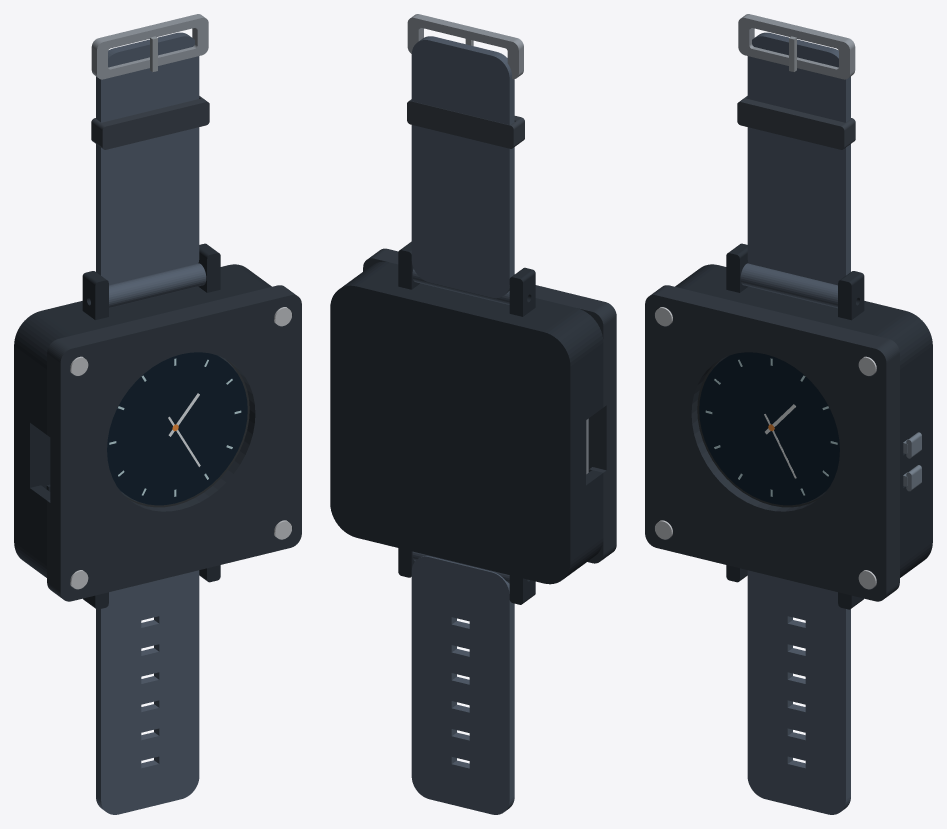
File: external-assembly.glb
3 renders of one model, left to right at view 1: azimuth 30°, elevation 25°; view 2: azimuth 150°, elevation 25°; view 3: azimuth 330°, elevation 25°, orthographic.
Visible parts, largest first — view 1: bezel, strap--30, strap-30, display-preview-face, case-base, strap-keeper, strap-buckle, lens-bond; view 2: case-base, strap--30, strap-30, bezel, strap-keeper, strap-buckle; view 3: bezel, strap--30, strap-30, display-preview-face, case-base, strap-keeper, strap-buckle, lens-bond.
Boxes of the visible parts, x1,y1,x2,y2 form: bezel: (47,285,301,601); strap--30: (96,570,199,814); strap-30: (96,32,206,308); display-preview-face: (107,352,247,505); case-base: (14,243,271,609); strap-keeper: (91,96,209,149); strap-buckle: (91,14,208,79); lens-bond: (125,359,249,507); case-base: (330,241,603,604); strap--30: (411,551,514,814); strap-30: (411,36,514,304); bezel: (363,248,616,563); strap-keeper: (407,99,524,148); strap-buckle: (407,14,523,79); bezel: (645,285,899,601); strap--30: (747,570,850,814); strap-30: (740,32,850,308); display-preview-face: (699,352,839,505); case-base: (675,243,932,609); strap-keeper: (737,96,855,149); strap-buckle: (738,14,855,79); lens-bond: (697,359,821,507).
Size of the model in its own units: 55.6 by 166 by 18.2.
